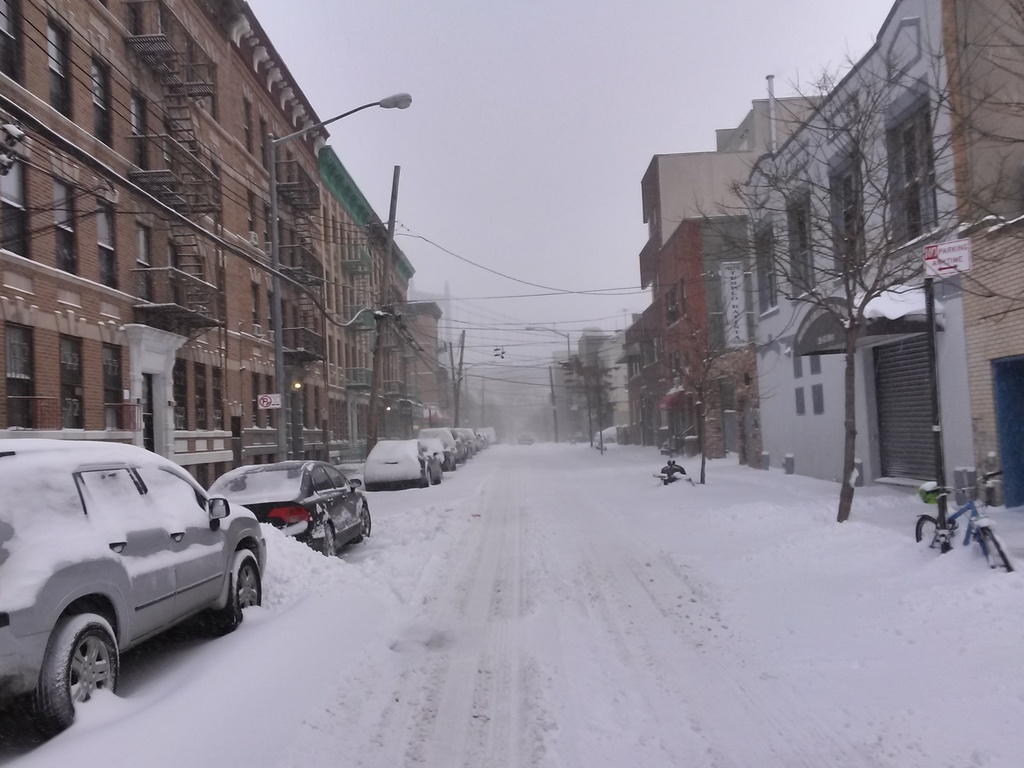Car: (0, 430, 255, 721), (208, 462, 371, 552), (357, 423, 496, 489), (593, 425, 618, 441)
